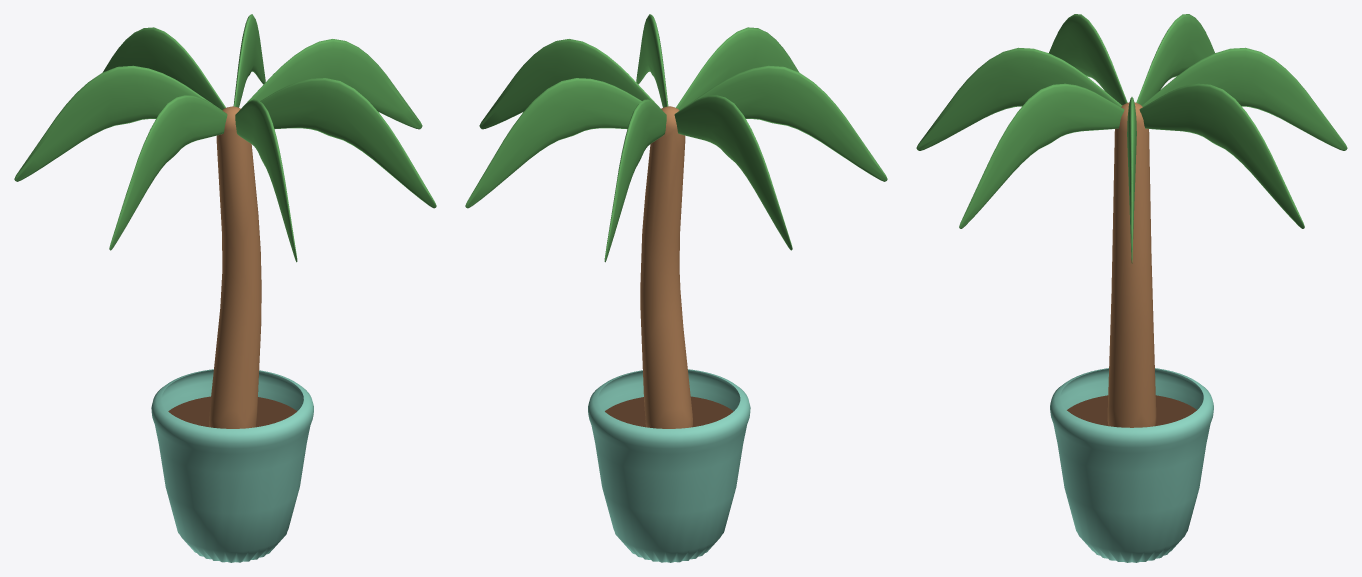
Rendered from deco_palma.glb.
The picture shows the model from 3 angles, left to right: view 1: azimuth 30°, elevation 25°; view 2: azimuth 150°, elevation 25°; view 3: azimuth 270°, elevation 25°; orthographic projection.
Parts seen in each view (by area): view 1: matera.005, tronco palma.001, penca 6.001, penca 3.001, penca 0.001, penca 4.001, penca 2.001, penca 5.001, tierra.005, penca 1.001; view 2: matera.005, tronco palma.001, penca 1.001, penca 4.001, penca 0.001, penca 3.001, penca 5.001, penca 2.001, tierra.005, penca 6.001; view 3: matera.005, tronco palma.001, penca 6.001, penca 1.001, penca 5.001, penca 2.001, penca 3.001, penca 4.001, tierra.005, penca 0.001.
Boxes of the visible parts, x1,y1,x2,y2 form: matera.005: [151, 369, 313, 562]; tronco palma.001: [209, 106, 261, 428]; penca 6.001: [260, 78, 436, 208]; penca 3.001: [14, 65, 222, 181]; penca 0.001: [243, 39, 422, 129]; penca 4.001: [109, 95, 227, 250]; penca 2.001: [102, 27, 225, 110]; penca 5.001: [235, 99, 297, 262]; tierra.005: [168, 396, 296, 427]; penca 1.001: [233, 14, 265, 107]; matera.005: [588, 369, 750, 562]; tronco palma.001: [640, 106, 692, 428]; penca 1.001: [465, 78, 641, 208]; penca 4.001: [679, 65, 887, 181]; penca 0.001: [479, 39, 658, 129]; penca 3.001: [674, 95, 792, 250]; penca 5.001: [676, 27, 799, 110]; penca 2.001: [604, 99, 666, 262]; tierra.005: [605, 396, 733, 427]; penca 6.001: [636, 14, 668, 107]; matera.005: [1050, 368, 1213, 562]; tronco palma.001: [1107, 102, 1156, 427]; penca 6.001: [959, 83, 1124, 228]; penca 1.001: [1139, 83, 1304, 228]; penca 5.001: [916, 47, 1122, 150]; penca 2.001: [1141, 47, 1347, 150]; penca 3.001: [1136, 14, 1214, 105]; penca 4.001: [1049, 14, 1127, 105]; tierra.005: [1067, 395, 1196, 426]; penca 0.001: [1127, 97, 1136, 263].
Bounding box in the file's own units: 0.764 × 0.9856 × 0.7837.
